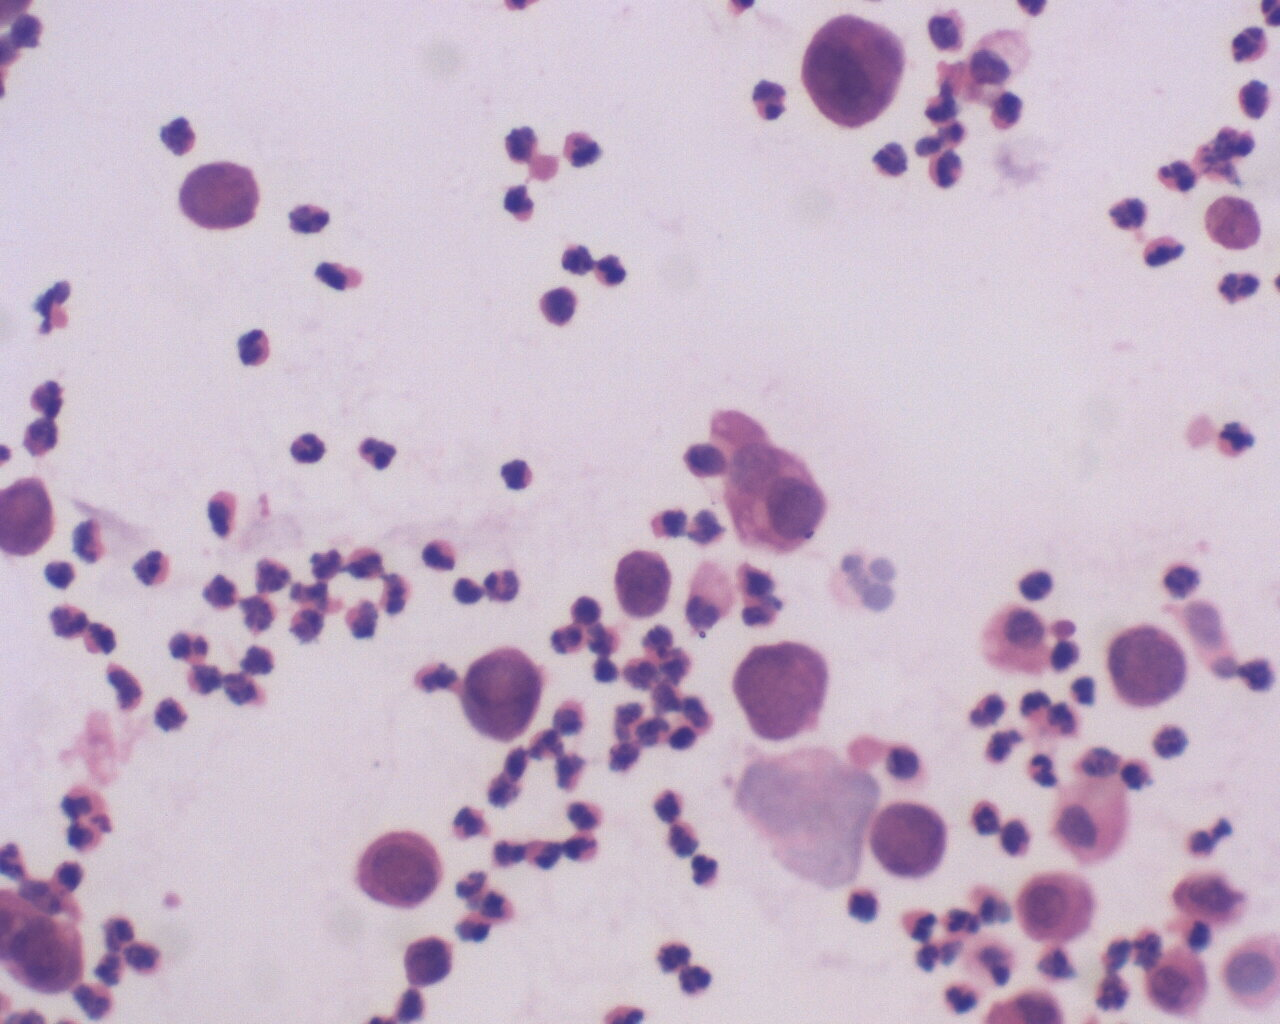ab: (795, 7, 907, 133), (456, 646, 556, 749), (358, 818, 446, 913), (1108, 618, 1193, 713), (174, 153, 266, 237), (864, 800, 953, 882), (609, 543, 685, 620)
meso: (1014, 866, 1096, 952), (977, 597, 1052, 676)
neutro: (230, 323, 278, 377), (130, 543, 181, 591), (1138, 228, 1190, 275), (1153, 153, 1204, 199), (356, 427, 400, 475), (870, 135, 913, 184), (290, 424, 329, 474), (1215, 417, 1259, 461), (927, 147, 968, 194), (1027, 746, 1066, 792), (1230, 25, 1273, 66), (685, 850, 723, 892)
